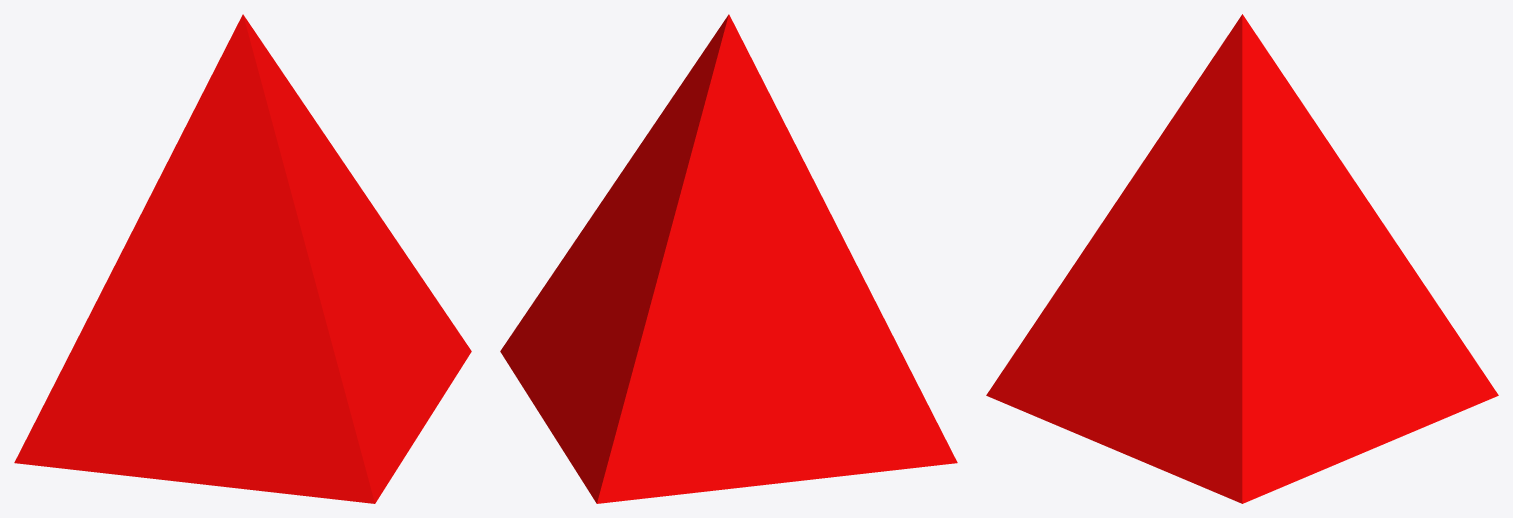
The model's file is BasePyramid.001.glb.
3 views of the same model, side by side, from view 1: azimuth 30°, elevation 25°; view 2: azimuth 150°, elevation 25°; view 3: azimuth 270°, elevation 25° (orthographic). The views are drawn at different scales.
Parts seen in each view (by area): view 1: BasePyramid.001; view 2: BasePyramid.001; view 3: BasePyramid.001.
Boxes of the visible parts, bbox=[...] form: BasePyramid.001: bbox=[14, 14, 471, 503]; BasePyramid.001: bbox=[500, 14, 957, 503]; BasePyramid.001: bbox=[986, 14, 1498, 503].
Bounding box in the file's own units: 0.9142 × 0.7506 × 0.9142.
1 material, 1 textured.
